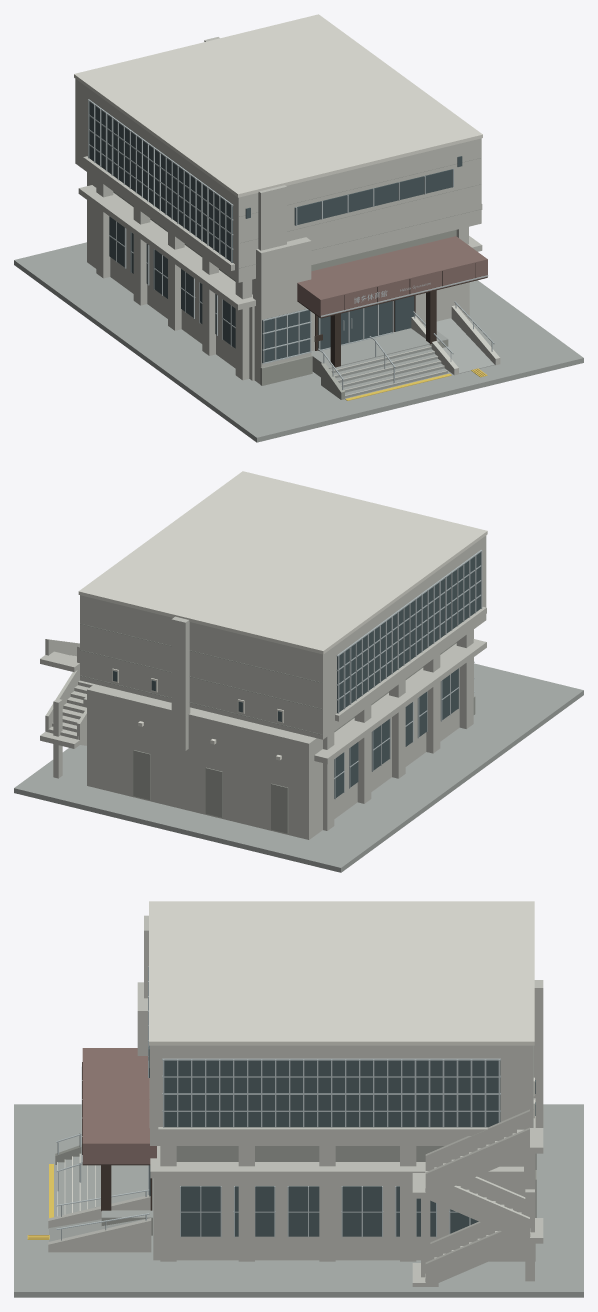
3 views of the same model, one above another, from view 1: azimuth 30°, elevation 25°; view 2: azimuth 150°, elevation 25°; view 3: azimuth 270°, elevation 25° (orthographic). The views are drawn at different scales.
Parts seen in each view (by area): view 1: hakata-gymnasium; view 2: hakata-gymnasium; view 3: hakata-gymnasium.
Part boxes in pixels (x1=…): hakata-gymnasium: x1=14, y1=14, x2=583, y2=442; hakata-gymnasium: x1=14, y1=471, x2=583, y2=872; hakata-gymnasium: x1=14, y1=901, x2=583, y2=1297.
Size of the model in its own units: 14 by 8.05 by 18.
